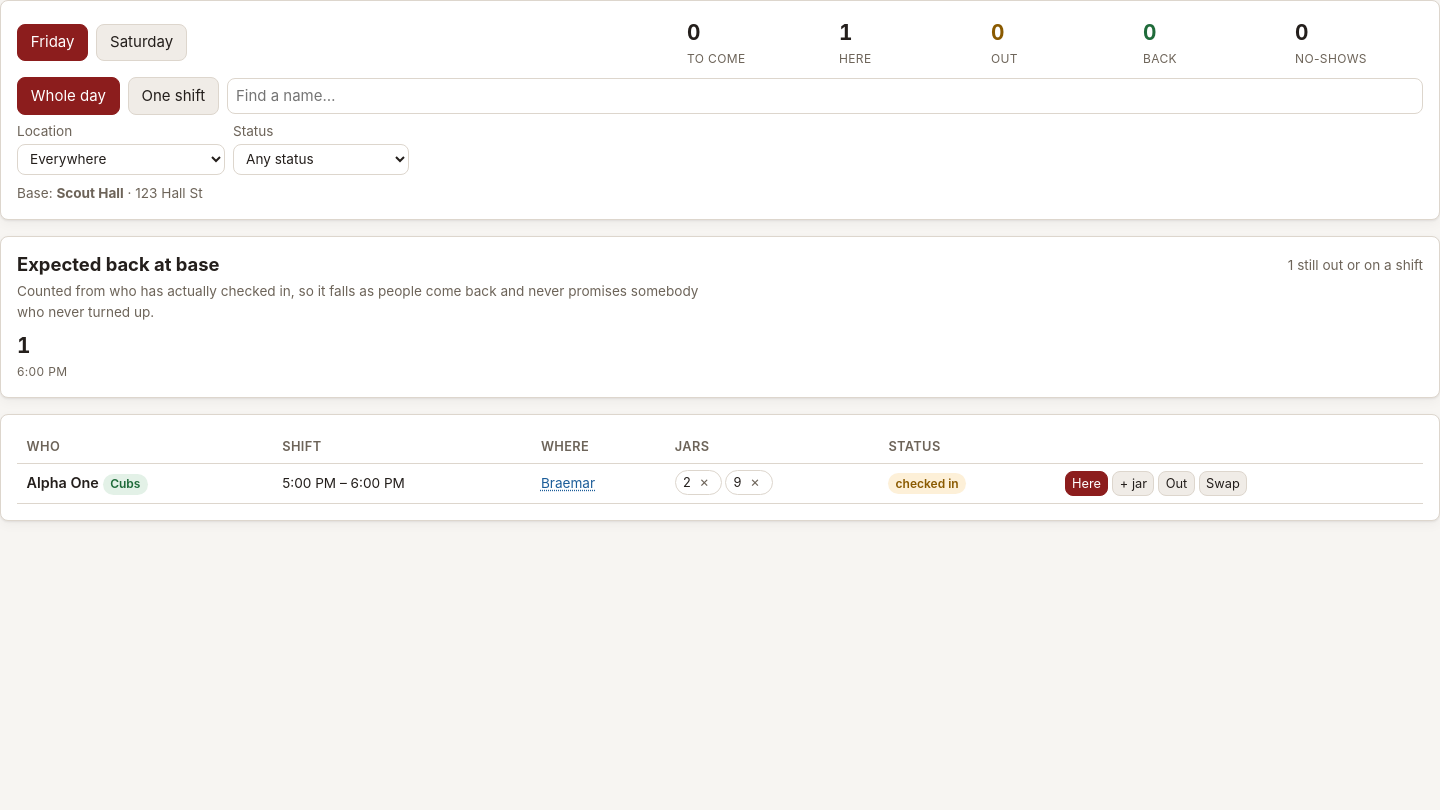
Test: issuing a jar › shows what is already out, so the table can be checked at a glance
The width and height of the screenshot is (1440, 810).
Click the button titled "Give Alpha One a jar": (1133, 484) [1112, 470, 1154, 496]
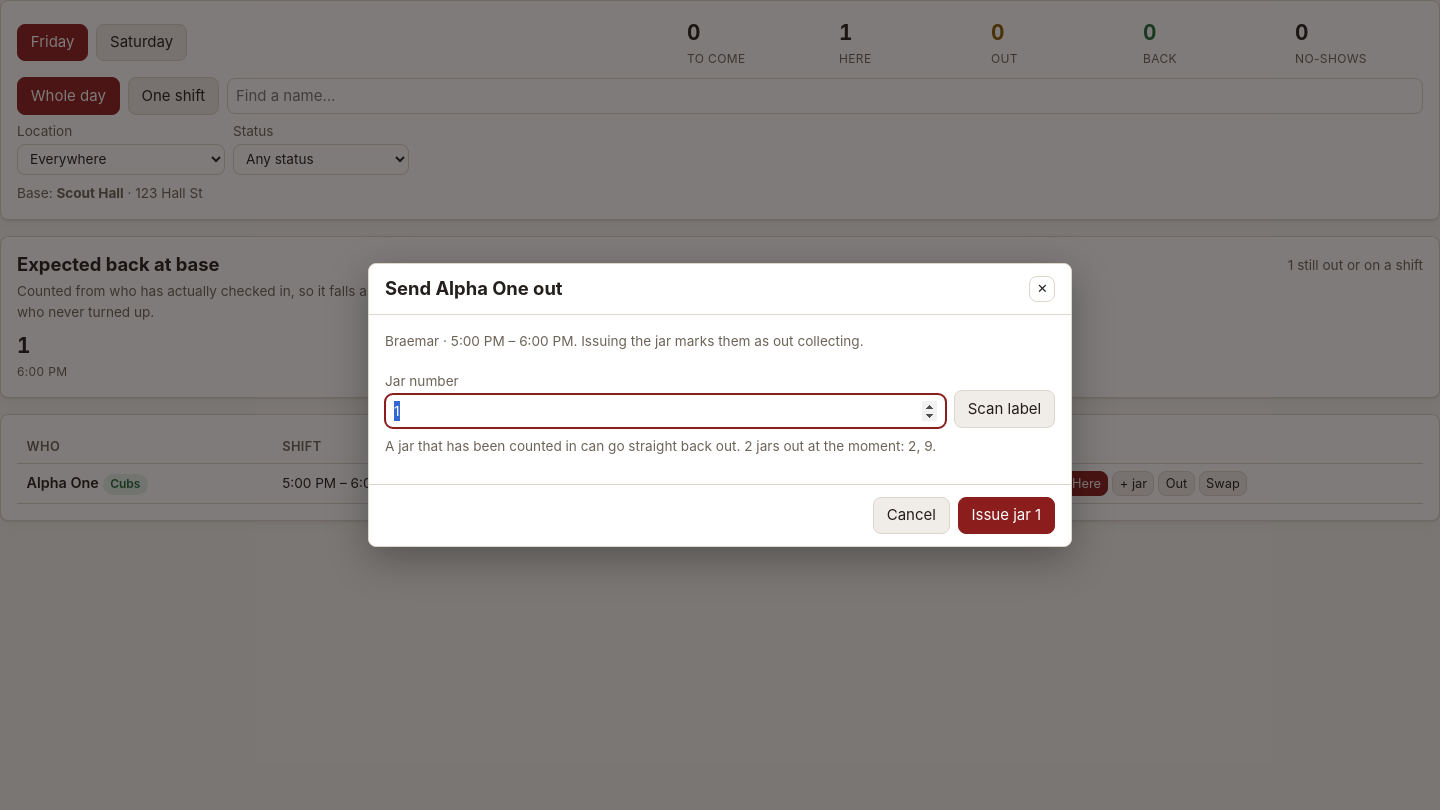
Expected: the text "2 jars out at the moment: 2, 9" is shown, [385, 438, 936, 454]
